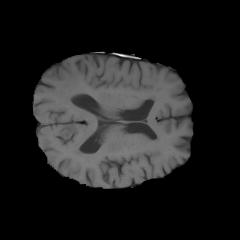glioma: (53, 70, 85, 104)
